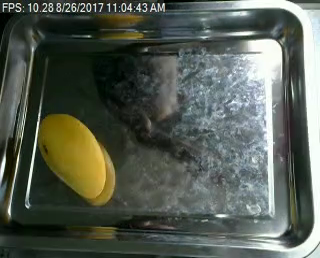Mango: (30, 106, 109, 204)
